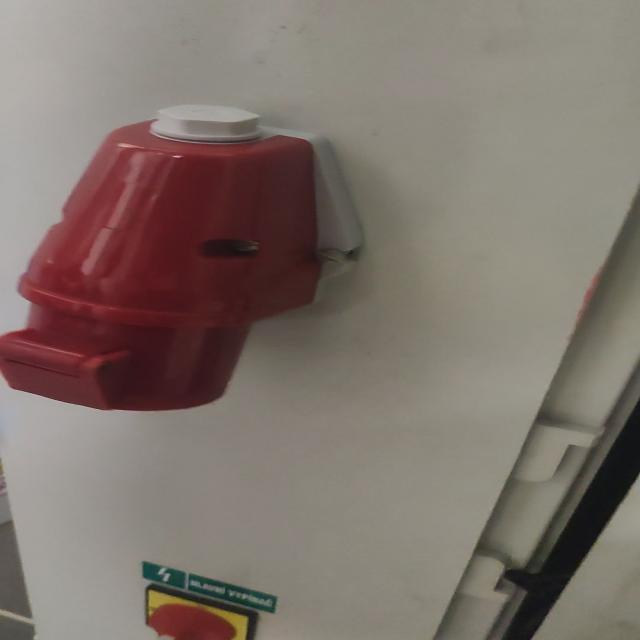400v socket down: (0, 104, 347, 415)
safety switch: (144, 580, 259, 640)
